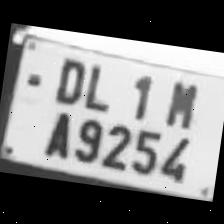1: (120, 61, 162, 121)
2: (96, 116, 133, 172)
4: (154, 124, 194, 184)
5: (124, 120, 163, 176)
9: (68, 110, 104, 164)
A: (38, 102, 76, 158)
D: (48, 48, 89, 106)
L: (78, 52, 116, 111)
M: (158, 68, 203, 130)
